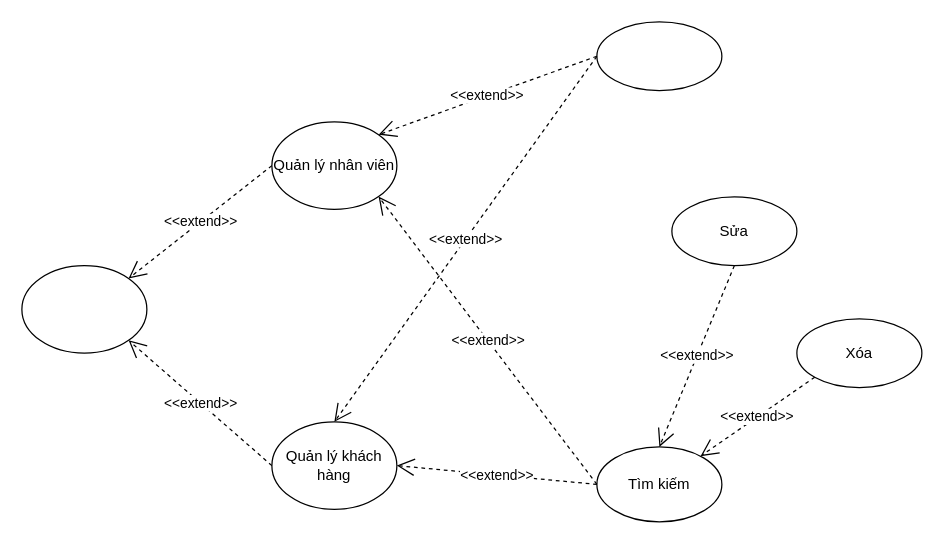
The diagram is 944 pixels wide and 544 high, and some of its shapes have lost their labels. The centre of each missing label's shape, as x and y in pixels:
Quản lý con người: [84,308]
Thêm: [659,56]
